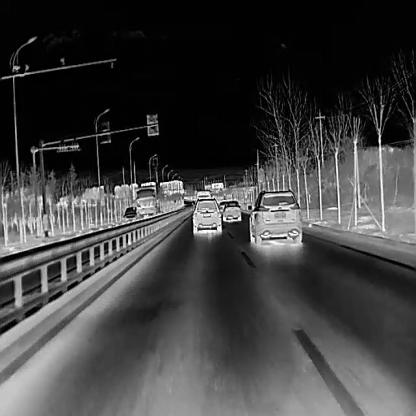car: (247, 188, 302, 246), (191, 196, 222, 235), (221, 198, 242, 221), (122, 205, 136, 225)
truck: (135, 182, 156, 218)
